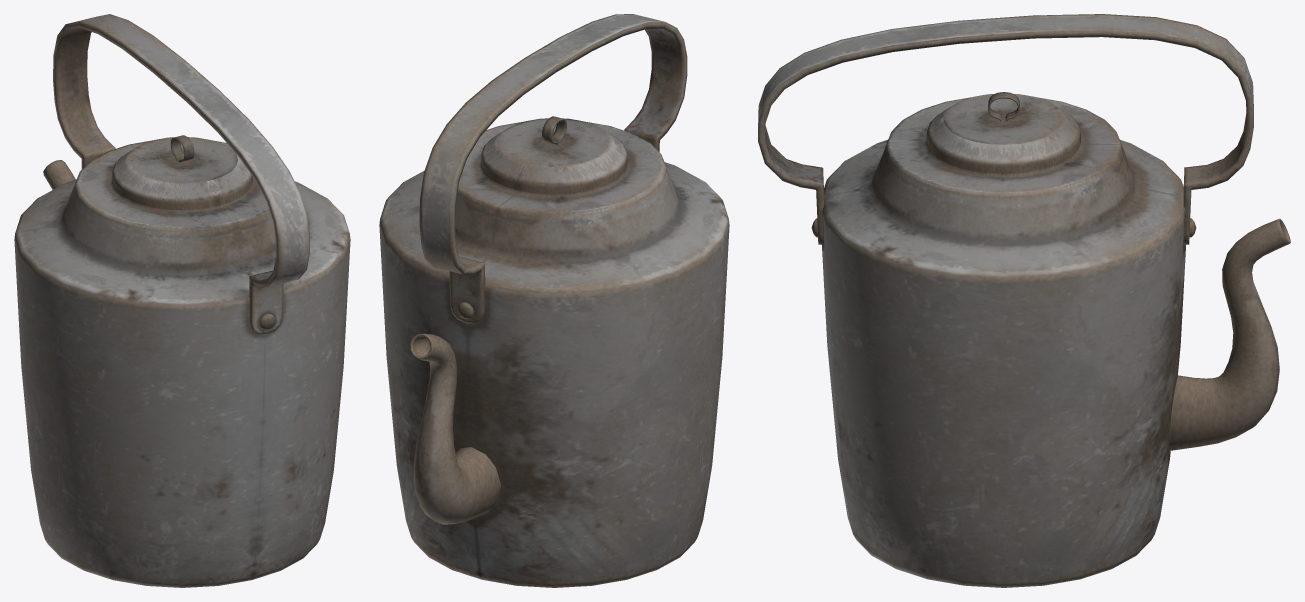
The model's file is SM_Kitchenware01_6_LOD0.glb.
The picture shows the model from 3 angles, left to right: view 1: azimuth 30°, elevation 25°; view 2: azimuth 150°, elevation 25°; view 3: azimuth 270°, elevation 25°; orthographic projection. The views are drawn at different scales.
Visible parts, largest first — view 1: SM_Kitchenware01_6_LOD0; view 2: SM_Kitchenware01_6_LOD0; view 3: SM_Kitchenware01_6_LOD0.
Part boxes in pixels (x1,y1,x2,y2): SM_Kitchenware01_6_LOD0: [14, 14, 350, 587]; SM_Kitchenware01_6_LOD0: [379, 14, 729, 587]; SM_Kitchenware01_6_LOD0: [758, 14, 1290, 587].
Bounding box in the file's own units: 0.2578 × 0.3884 × 0.3727.
1 material, 1 textured.
